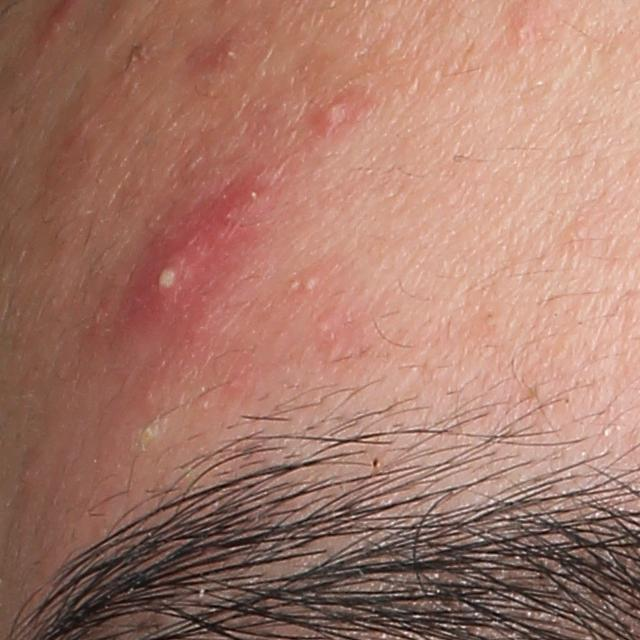papule: (125, 210, 228, 335), (310, 94, 352, 137)
